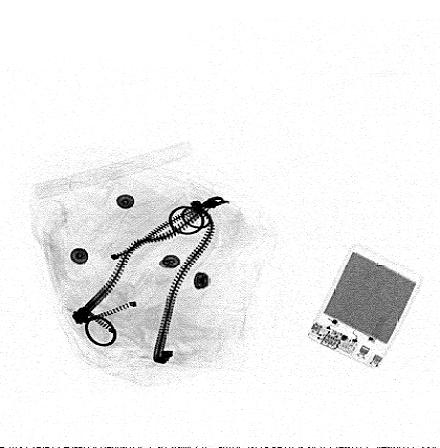Powerbank: (304, 245, 421, 371)
